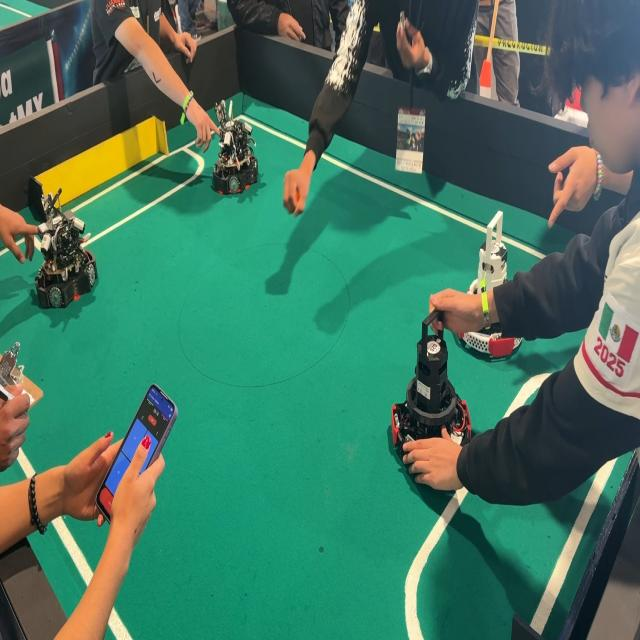Robot: (386, 299, 482, 486), (448, 203, 530, 370), (31, 194, 106, 316), (208, 97, 271, 204)
